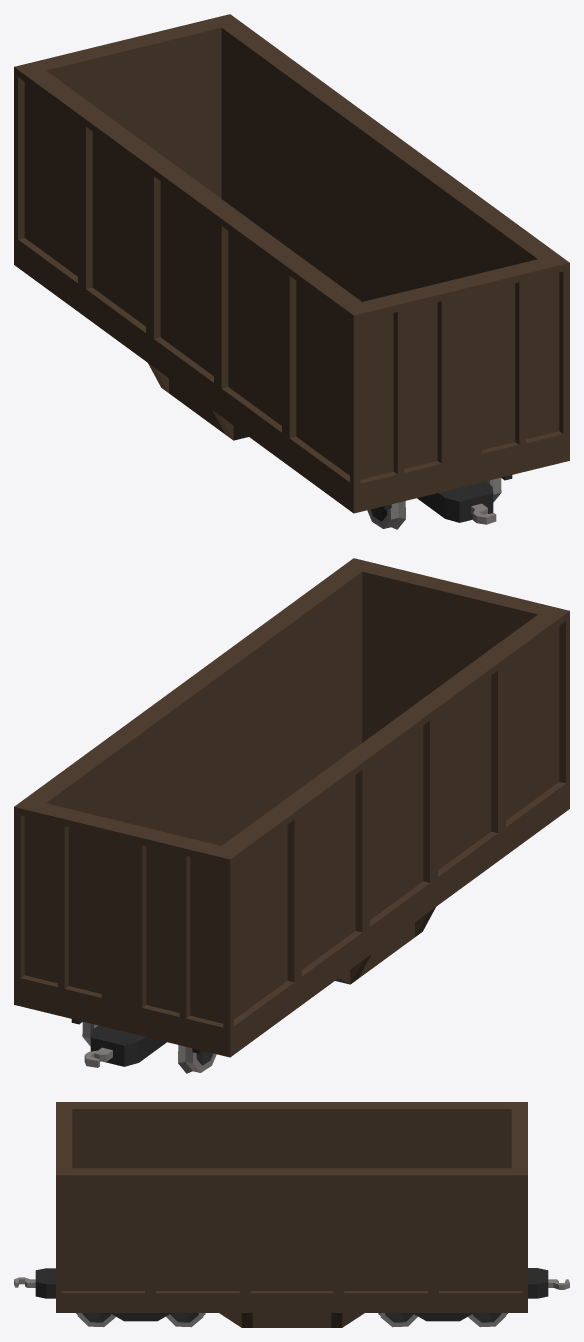
Rendered from vehicles-train-wagon-hopper.glb.
The picture shows the model from 3 angles, top to bottom: view 1: azimuth 30°, elevation 25°; view 2: azimuth 150°, elevation 25°; view 3: azimuth 270°, elevation 25°; orthographic projection. The views are drawn at different scales.
Parts seen in each view (by area): view 1: train-wagon-hopper-base, train-wagon-hopper-wheel_F1; view 2: train-wagon-hopper-base, train-wagon-hopper-wheel_B2; view 3: train-wagon-hopper-base, train-wagon-hopper-wheel-frame_B, train-wagon-hopper-wheel-frame_F, train-wagon-hopper-wheel_B1, train-wagon-hopper-wheel_F2, train-wagon-hopper-wheel_B2, train-wagon-hopper-wheel_F1.
Part boxes in pixels (x1,y1,x2,y2): train-wagon-hopper-base: (14, 14, 569, 524); train-wagon-hopper-wheel_F1: (367, 477, 501, 529); train-wagon-hopper-base: (14, 558, 569, 1067); train-wagon-hopper-wheel_B2: (82, 1021, 216, 1073); train-wagon-hopper-base: (14, 1102, 569, 1327); train-wagon-hopper-wheel-frame_B: (412, 1313, 473, 1321); train-wagon-hopper-wheel-frame_F: (110, 1313, 171, 1321); train-wagon-hopper-wheel_B1: (378, 1313, 417, 1327); train-wagon-hopper-wheel_F2: (166, 1313, 205, 1327); train-wagon-hopper-wheel_B2: (468, 1313, 507, 1327); train-wagon-hopper-wheel_F1: (76, 1313, 115, 1327).
Size of the model in its own units: 3.2 by 3.5 by 10.26.
